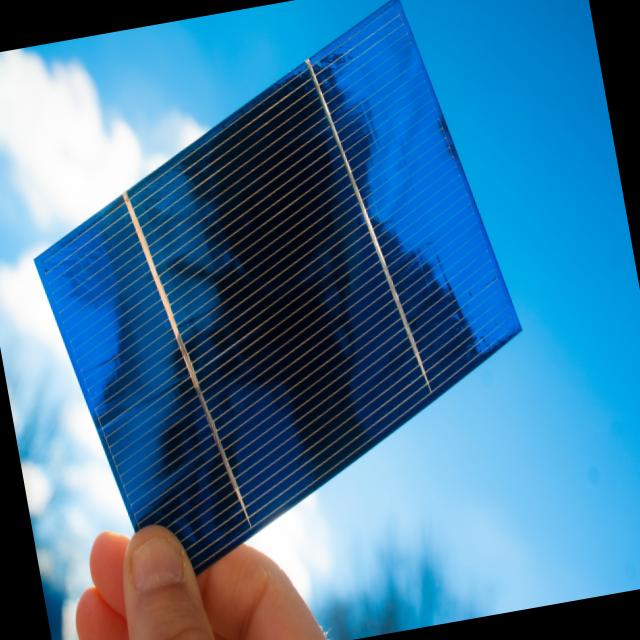no faulty: (45, 16, 522, 566)
